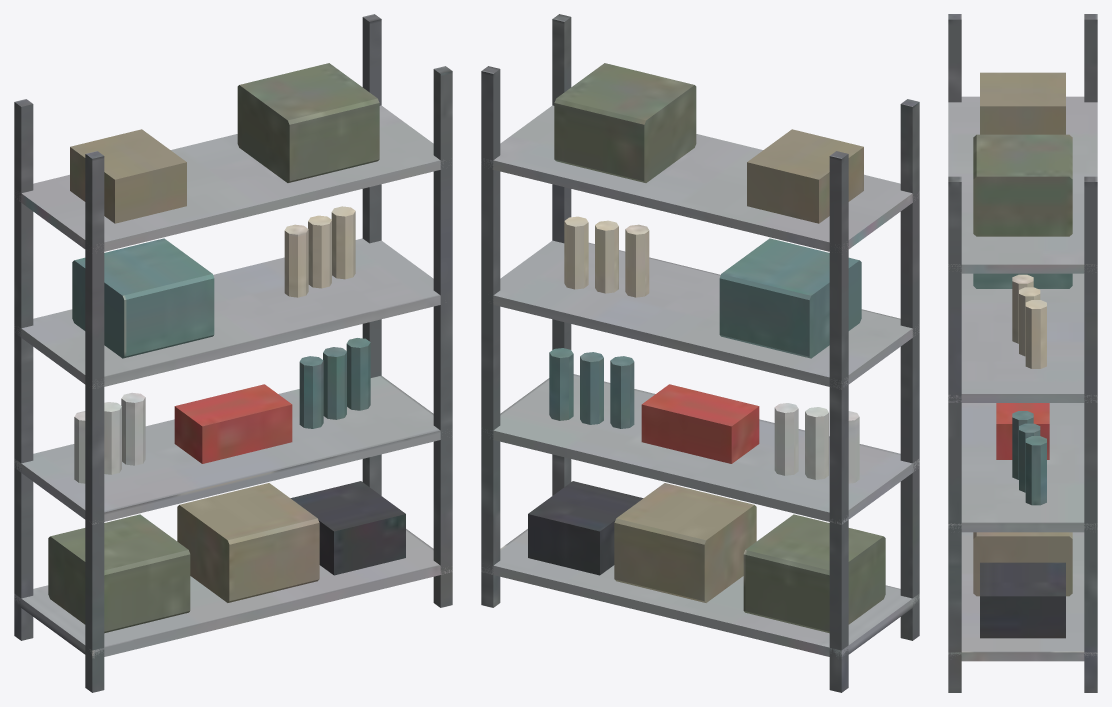
Rendered from supply_shelf_tex.glb.
3 renders of one model, left to right at view 1: azimuth 30°, elevation 25°; view 2: azimuth 150°, elevation 25°; view 3: azimuth 270°, elevation 25°, orthographic. The views are drawn at different scales.
Visible parts, largest first — view 1: supply_shelf_base; view 2: supply_shelf_base; view 3: supply_shelf_base.
Boxes of the visible parts, <box> form: supply_shelf_base: <box>14,14,452,692</box>; supply_shelf_base: <box>481,14,919,692</box>; supply_shelf_base: <box>948,14,1097,692</box>.
Size of the model in its own units: 0.3 by 0.425 by 0.1125.
Materials: 1 (1 with a texture image).
